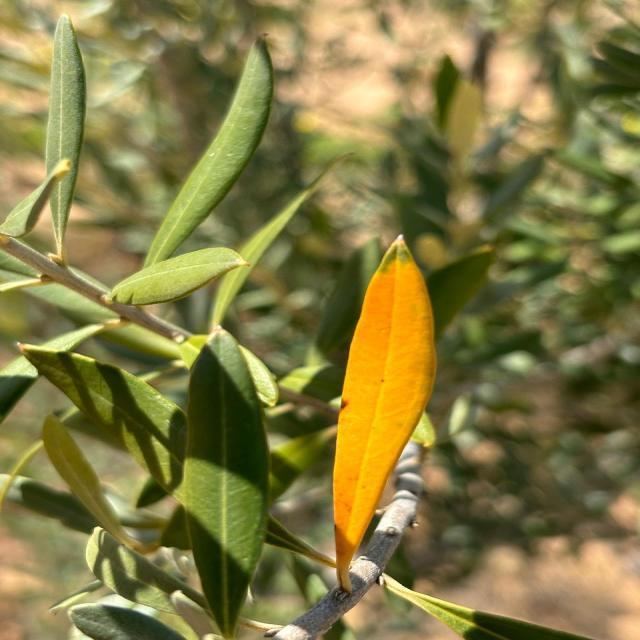OlivePeacockSpot: (334, 236, 436, 592)
